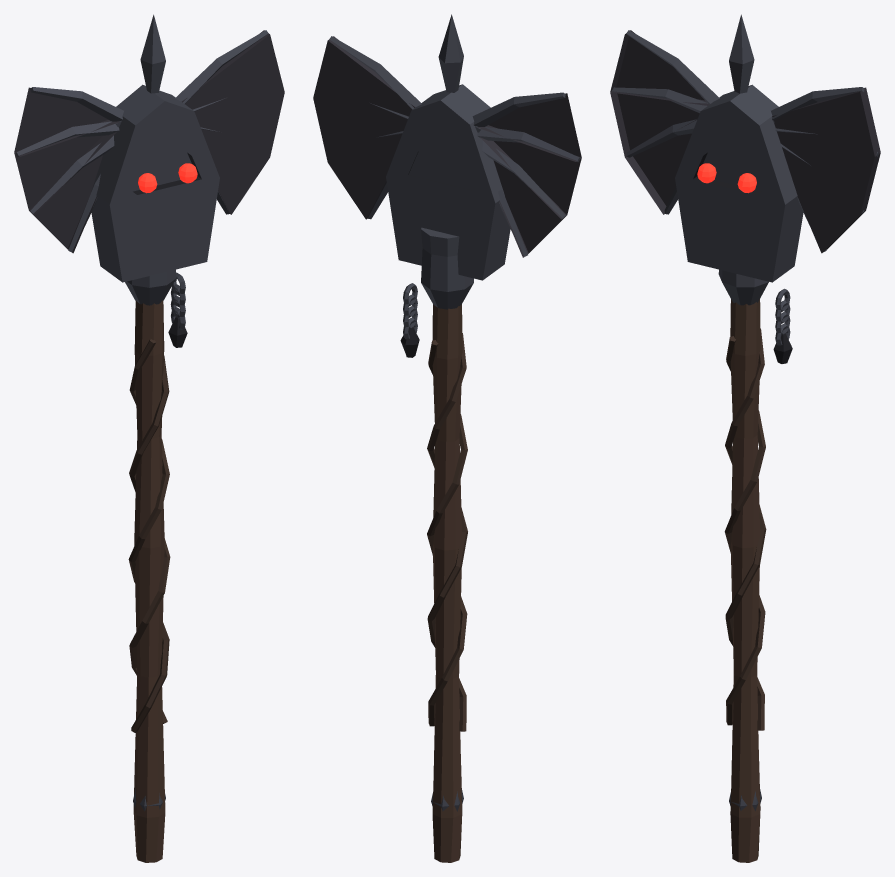
Rendered from staff_batwing.glb.
3 renders of one model, left to right at view 1: azimuth 30°, elevation 25°; view 2: azimuth 150°, elevation 25°; view 3: azimuth 330°, elevation 25°, orthographic.
Parts seen in each view (by area): view 1: Bw_Helm, Bw_Shaft, Bw_W1_M0, Bw_W1_M1, Bw_W0_M0, Bw_W0_M1, Bw_W1_M2, Bw_W0_M2, Bw_Vine1, Bw_Vine0, Bw_Crest, Bw_Neck (+4 smaller); view 2: Bw_Helm, Bw_Shaft, Bw_W1_M0, Bw_W1_M1, Bw_W1_M2, Bw_W0_M1, Bw_Neck, Bw_W0_M0, Bw_W0_M2, Bw_Vine1, Bw_Vine0, Bw_Crest (+4 smaller); view 3: Bw_Helm, Bw_Shaft, Bw_W1_M0, Bw_W1_M1, Bw_W1_M2, Bw_W0_M1, Bw_W0_M0, Bw_W0_M2, Bw_Vine0, Bw_Vine1, Bw_Crest, Bw_Neck (+4 smaller).
Part boxes in pixels (left/top/right/bottom): Bw_Helm: left=91, top=84, right=219, bottom=282; Bw_Shaft: left=133, top=300, right=165, bottom=862; Bw_W1_M0: left=181, top=30, right=284, bottom=105; Bw_W1_M1: left=187, top=92, right=284, bottom=157; Bw_W0_M0: left=14, top=87, right=119, bottom=156; Bw_W0_M1: left=14, top=132, right=116, bottom=214; Bw_W1_M2: left=198, top=120, right=269, bottom=214; Bw_W0_M2: left=29, top=155, right=102, bottom=253; Bw_Vine1: left=128, top=339, right=169, bottom=732; Bw_Vine0: left=129, top=355, right=170, bottom=723; Bw_Crest: left=140, top=14, right=165, bottom=93; Bw_Neck: left=125, top=269, right=176, bottom=305; Bw_Helm: left=386, top=84, right=510, bottom=280; Bw_Shaft: left=432, top=304, right=462, bottom=862; Bw_W1_M0: left=313, top=36, right=415, bottom=111; Bw_W1_M1: left=313, top=98, right=410, bottom=162; Bw_W1_M2: left=328, top=121, right=406, bottom=219; Bw_W0_M1: left=480, top=137, right=581, bottom=219; Bw_Neck: left=421, top=227, right=473, bottom=309; Bw_W0_M0: left=477, top=93, right=581, bottom=161; Bw_W0_M2: left=493, top=160, right=565, bottom=257; Bw_Vine1: left=427, top=333, right=467, bottom=731; Bw_Vine0: left=427, top=340, right=467, bottom=726; Bw_Crest: left=438, top=14, right=463, bottom=92; Bw_Helm: left=675, top=84, right=803, bottom=282; Bw_Shaft: left=730, top=299, right=760, bottom=862; Bw_W1_M0: left=772, top=87, right=880, bottom=156; Bw_W1_M1: left=774, top=122, right=880, bottom=214; Bw_W1_M2: left=777, top=131, right=865, bottom=253; Bw_W0_M1: left=610, top=92, right=699, bottom=157; Bw_W0_M0: left=610, top=30, right=709, bottom=105; Bw_W0_M2: left=625, top=133, right=691, bottom=214; Bw_Vine0: left=725, top=329, right=766, bottom=730; Bw_Vine1: left=724, top=336, right=765, bottom=725; Bw_Crest: left=729, top=14, right=754, bottom=93; Bw_Neck: left=718, top=269, right=768, bottom=305.
Size of the model in its own units: 0.7222 by 2.2 by 0.173.
